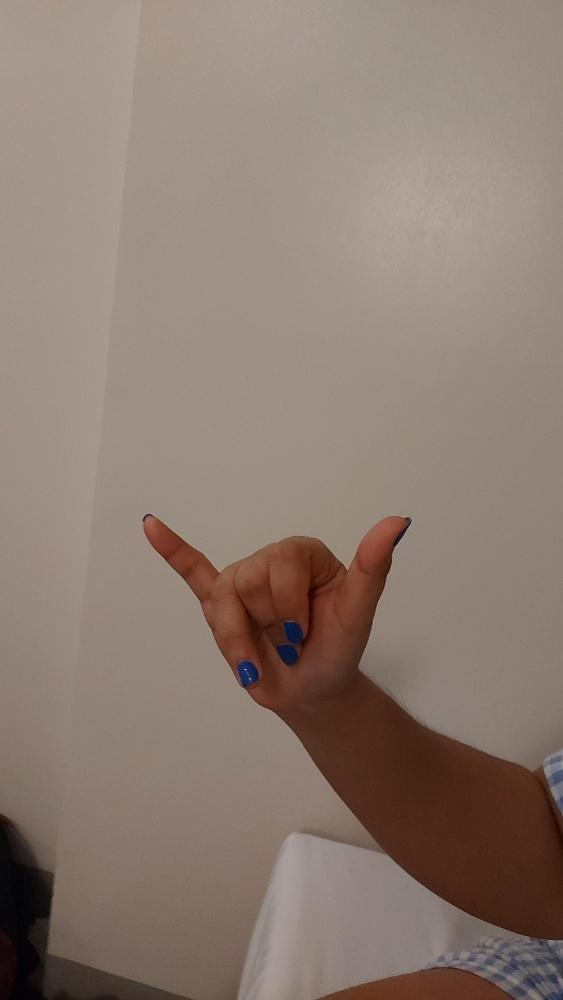y: (134, 507, 414, 711)
